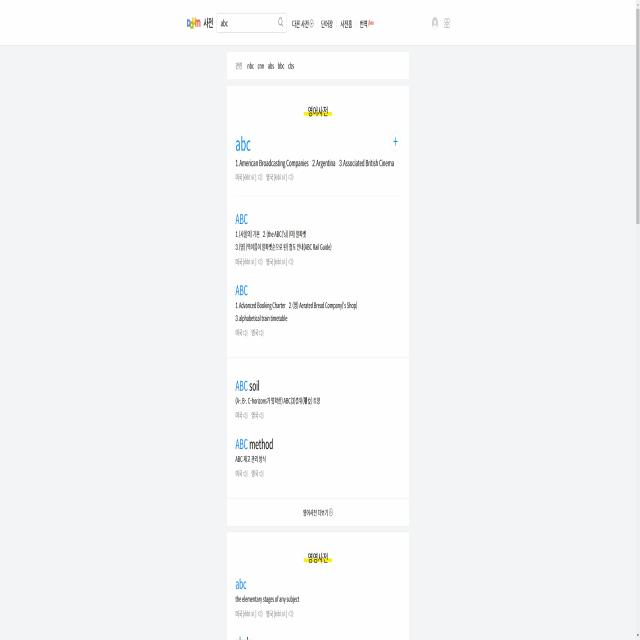menu-bar: (428, 10, 452, 40)
search: (215, 9, 288, 37)
tab-bar: (292, 13, 379, 36)
